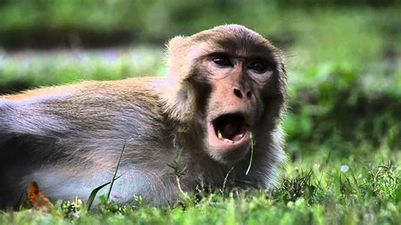monkey: (7, 18, 323, 224)
